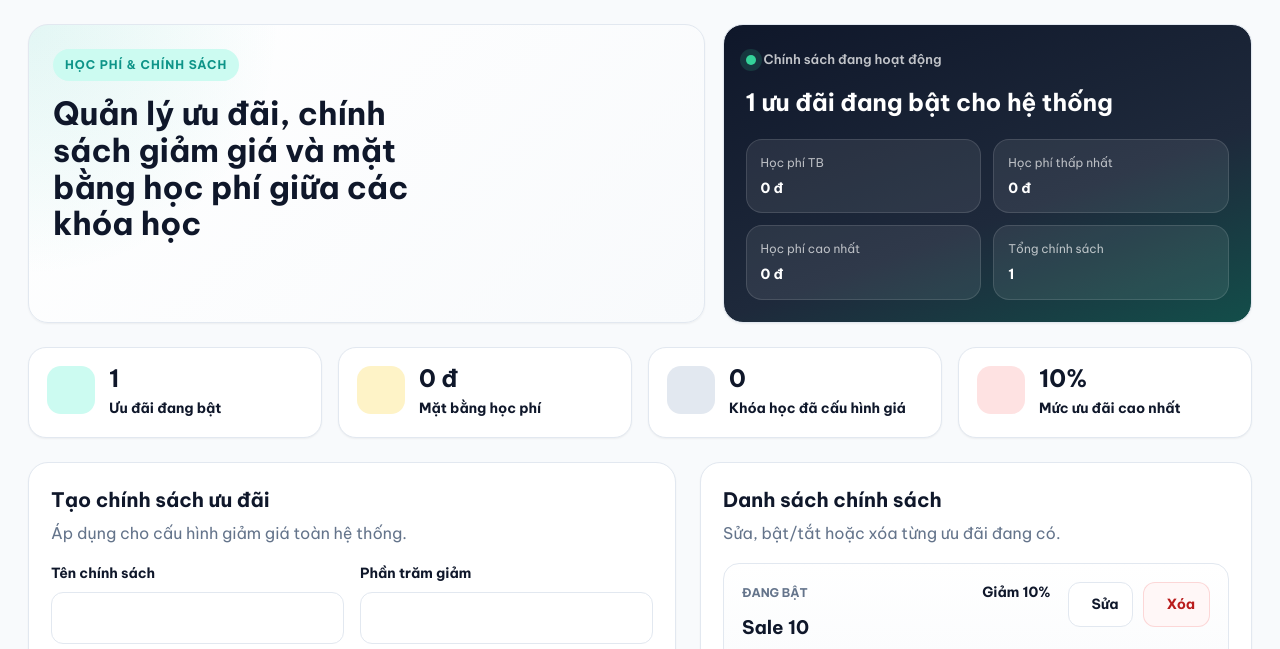
Test case: AdminPoliciesPage › hien loi khi xoa that bai
The width and height of the screenshot is (1280, 649).
Expected: the heading "Sale 10" is shown, [742, 615, 809, 639]
Click the button "Xóa" at (1177, 604), box [1143, 582, 1210, 627]
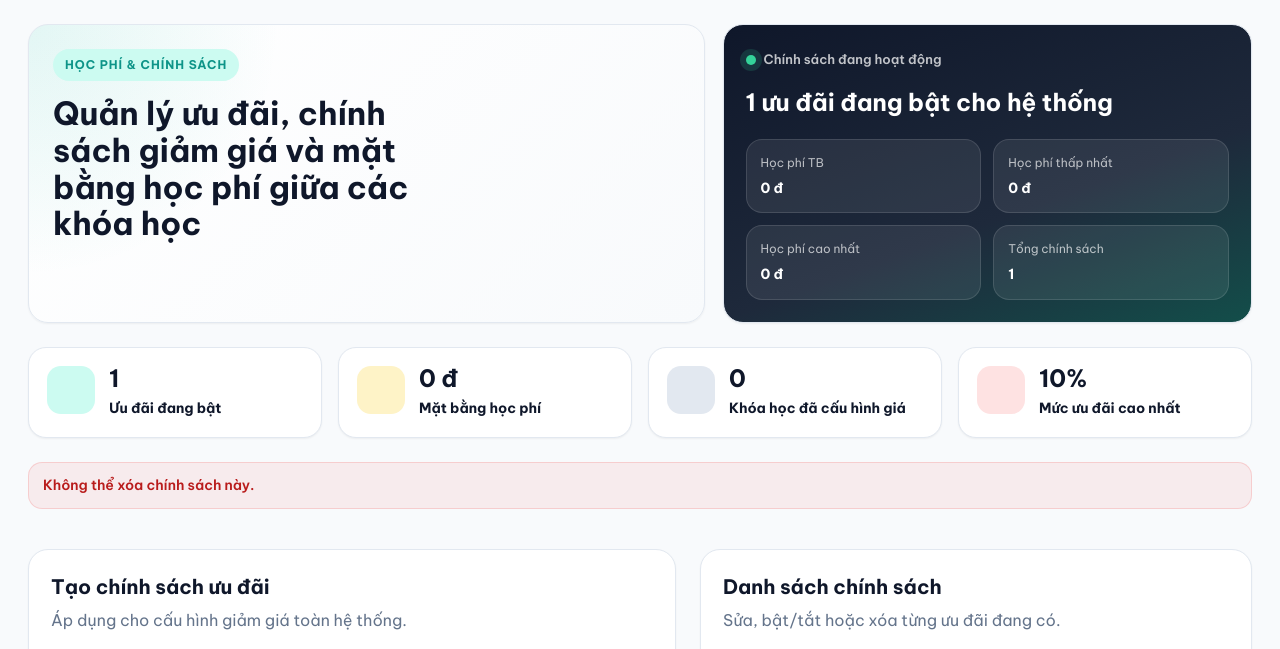
Now the text "Không thể xóa chính sách này." is shown, box [28, 462, 1252, 509]
